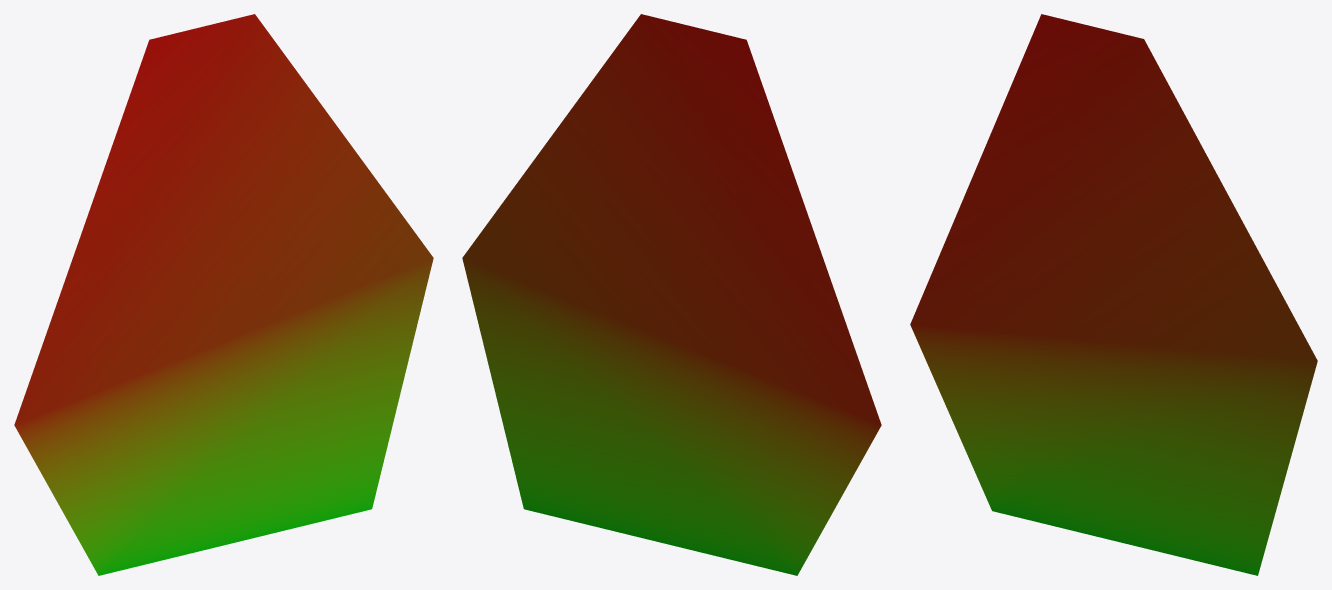
File: Cat Palm_LOD5_Var1_tjejafeia.fbx
3 renders of one model, left to right at view 1: azimuth 30°, elevation 25°; view 2: azimuth 150°, elevation 25°; view 3: azimuth 330°, elevation 25°, orthographic. The views are drawn at different scales.
Visible parts, largest first — view 1: _c31a_Var1_LOD5; view 2: _c31a_Var1_LOD5; view 3: _c31a_Var1_LOD5.
Boxes of the visible parts, bbox=[...] form: _c31a_Var1_LOD5: bbox=[14, 14, 433, 575]; _c31a_Var1_LOD5: bbox=[462, 14, 881, 575]; _c31a_Var1_LOD5: bbox=[910, 14, 1317, 575].
Size of the model in its own units: 134 by 160 by 2.81e-05.
